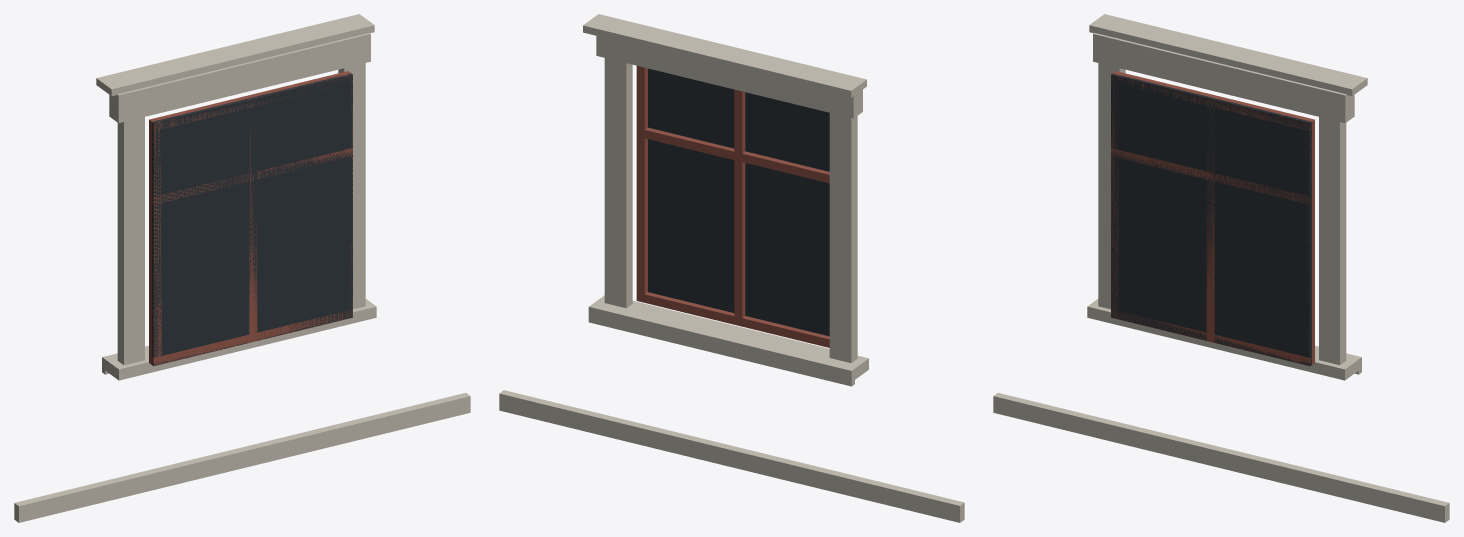
File: sh_bay_win.glb
3 views of the same model, side by side, from view 1: azimuth 30°, elevation 25°; view 2: azimuth 150°, elevation 25°; view 3: azimuth 330°, elevation 25° (orthographic). The views are drawn at different scales.
Parts seen in each view (by area): view 1: sh_bay_win; view 2: sh_bay_win; view 3: sh_bay_win.
Part boxes in pixels (x1,y1,x2,y2): sh_bay_win: [14, 14, 470, 522]; sh_bay_win: [499, 14, 964, 522]; sh_bay_win: [993, 14, 1449, 522].
Bounding box in the file's own units: 3.4 × 2.95 × 0.33.
